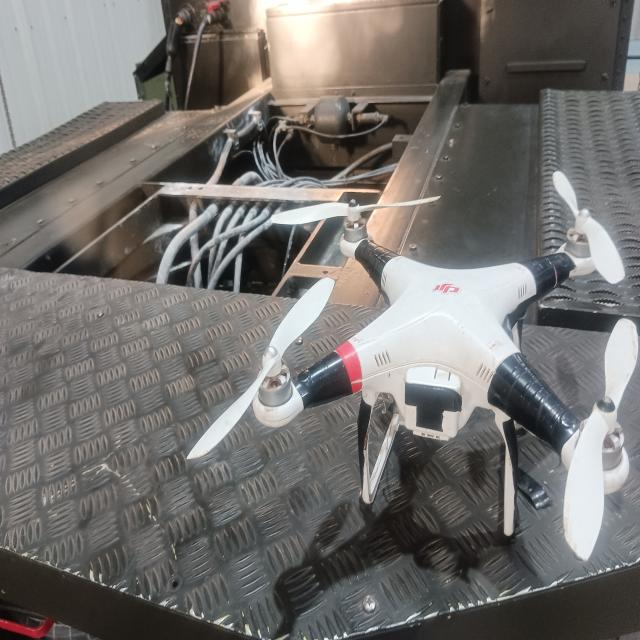drone: (249, 190, 631, 537)
